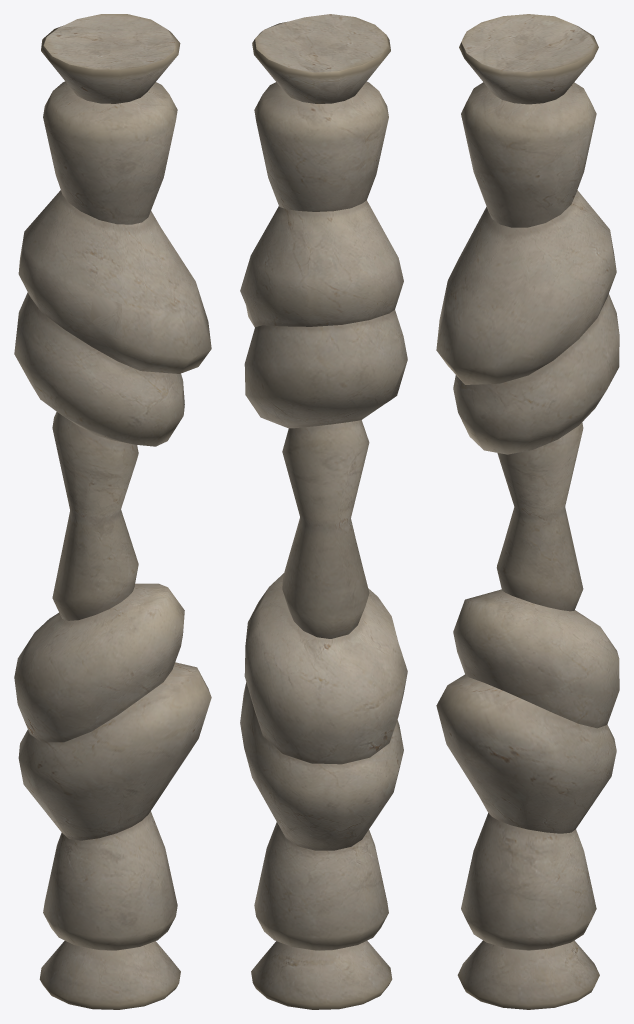
Rendered from o_com_zhuangshi_08.fbx.
3 views of the same model, side by side, from view 1: azimuth 30°, elevation 25°; view 2: azimuth 150°, elevation 25°; view 3: azimuth 270°, elevation 25° (orthographic).
Visible parts, largest first — view 1: o_com_zhuangshi_08; view 2: o_com_zhuangshi_08; view 3: o_com_zhuangshi_08.
Part boxes in pixels (x1=…): o_com_zhuangshi_08: x1=14, y1=14, x2=211, y2=1009; o_com_zhuangshi_08: x1=240, y1=14, x2=407, y2=1009; o_com_zhuangshi_08: x1=436, y1=14, x2=619, y2=1009.
Bounding box in the file's own units: 22.61 × 126 × 22.33.
